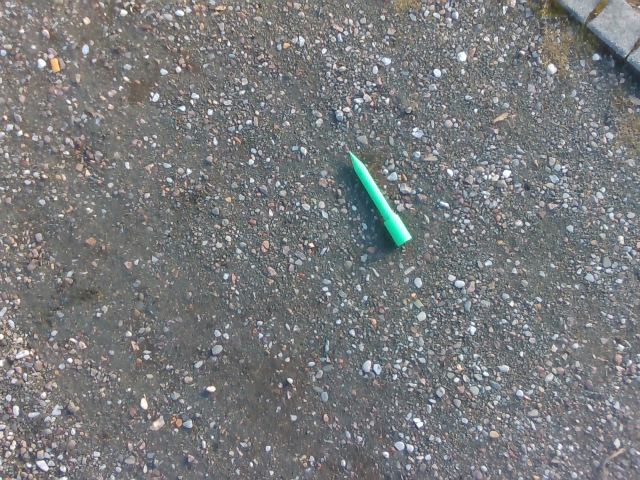Probe: (343, 143, 418, 251)
